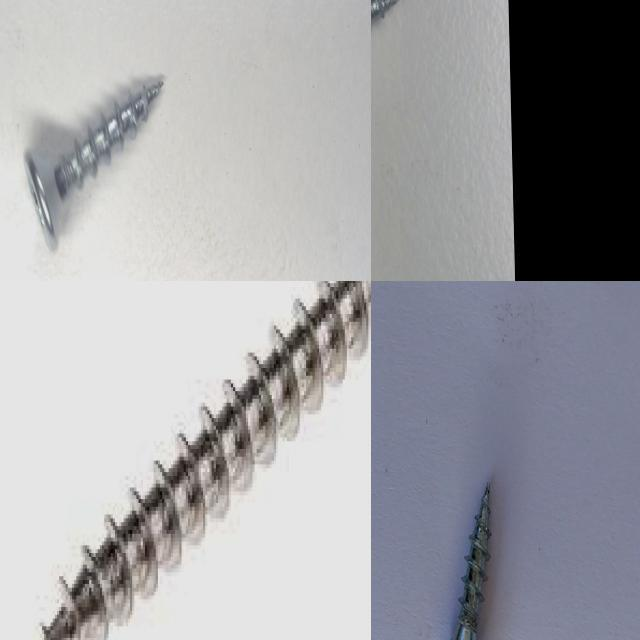Screw: (36, 281, 371, 640), (24, 80, 163, 250), (449, 481, 491, 640)
